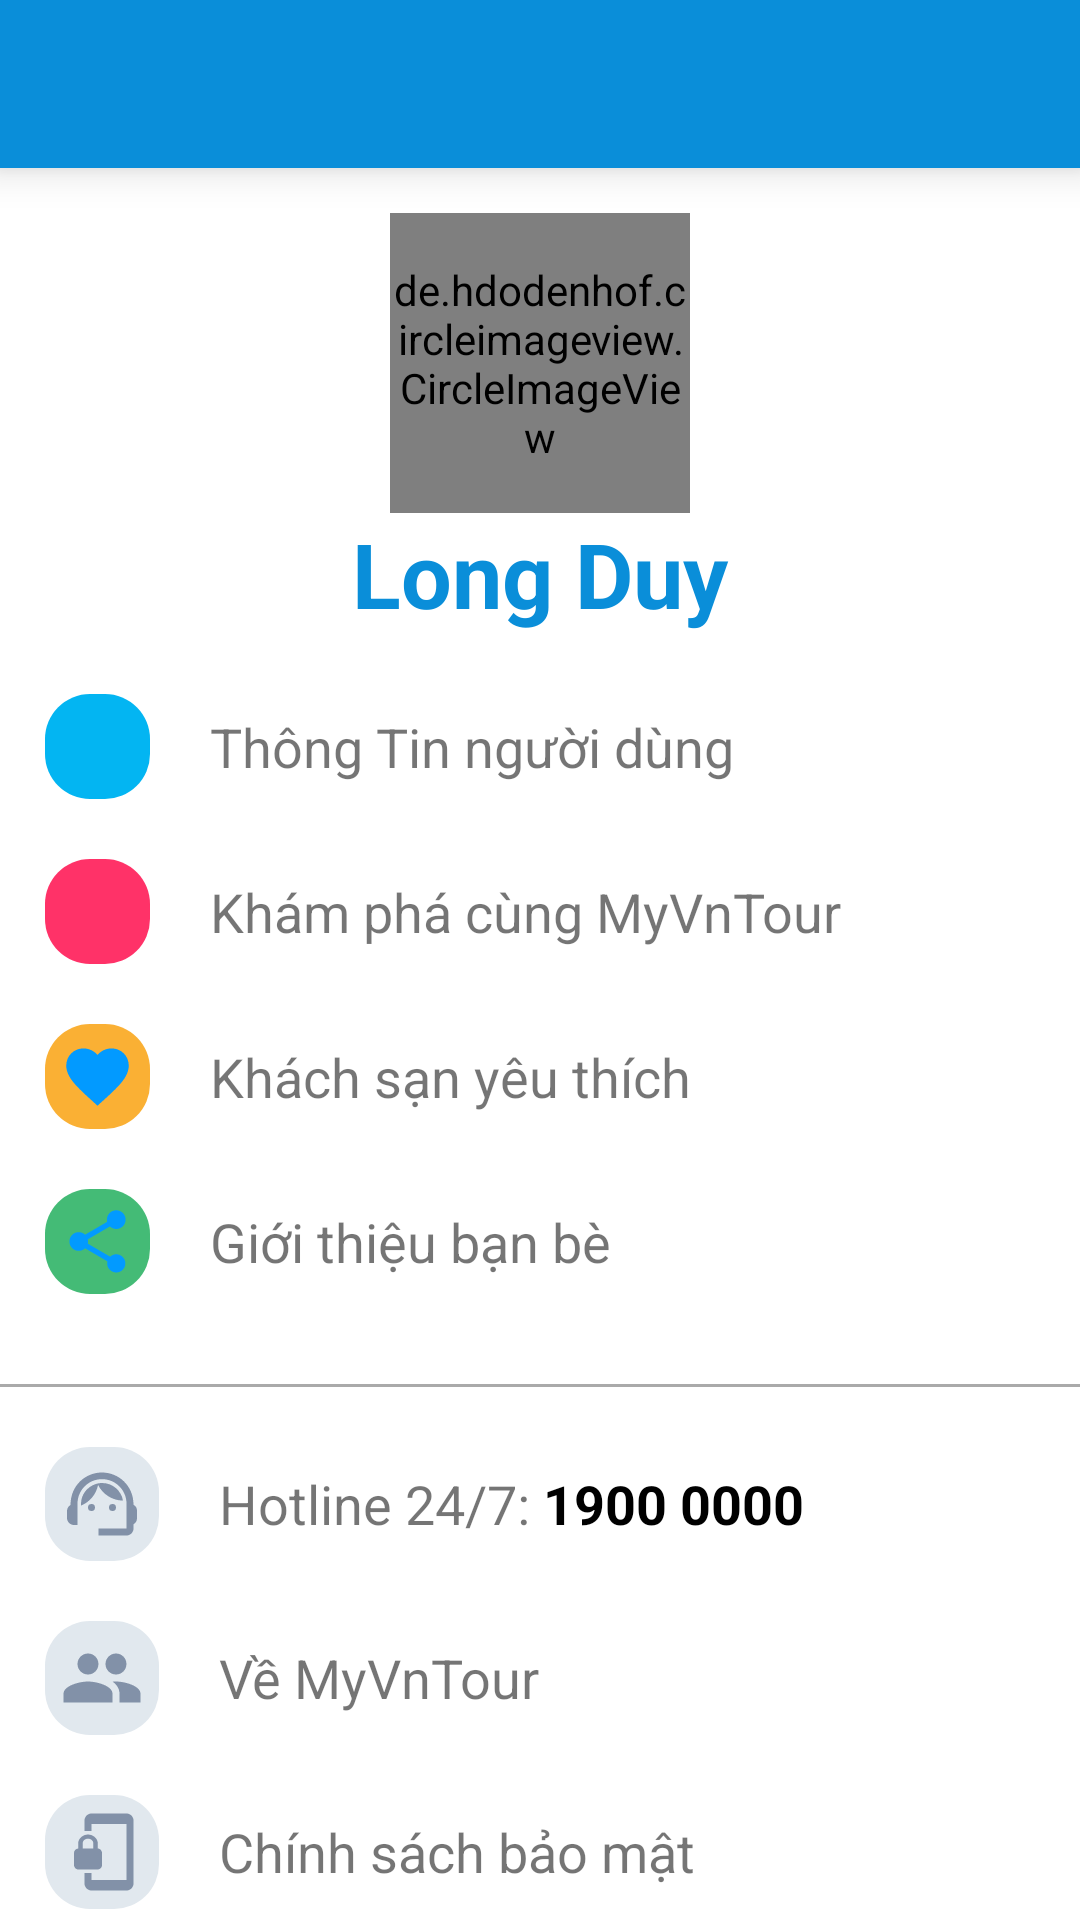

Icons on this 1080px×1920px Android screen, each with the point to tap as (x,y):
favorite: (97,1076)
phonelink lock: (102,1852)
share: (97,1241)
support agent: (102,1504)
